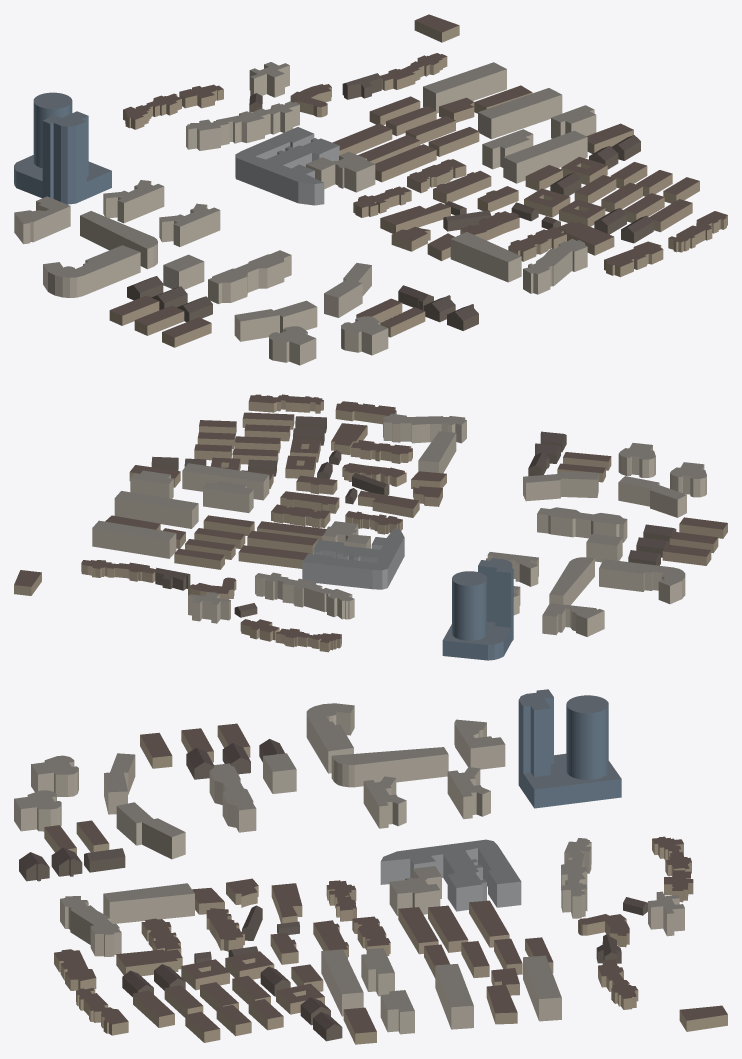
File: tile_3_3.glb
3 views of the same model, one above another, from view 1: azimuth 30°, elevation 25°; view 2: azimuth 150°, elevation 25°; view 3: azimuth 270°, elevation 25° (orthographic). The views are drawn at different scales.
Parts seen in each view (by area): view 1: HP-w1319592295, HP-w1512497750, HP-w1512530034, HP-w293950143, HP-w293416979, HP-w859488719, HP-w859488723, HP-w859488720, HP-w1512495276, HP-w293950144, HP-w1323529653, HP-w1512495278 (+62 smaller); view 2: HP-w1319592295, HP-w1512497750, HP-w1512530034, HP-w293950143, HP-w859488720, HP-w293416979, HP-w859488719, HP-w1512495278, HP-w1323529654, HP-w1323529653, HP-w859488723, HP-w1327459752 (+49 smaller); view 3: HP-w1319592295, HP-w1512497750, HP-w293950144, HP-w1512495276, HP-w293950143, HP-w1512495278, HP-w1323529654, HP-w293416979, HP-w1512530034, HP-w1327459752, HP-w1512497751, HP-w859488720 (+58 smaller).
Boxes of the visible parts, x1,y1,x2,y2 form: HP-w1319592295: (14,92,111,204); HP-w1512497750: (235,127,339,205); HP-w1512530034: (186,101,299,150); HP-w293950143: (43,245,140,297); HP-w293416979: (208,250,291,303); HP-w859488719: (478,88,562,139); HP-w859488723: (503,130,587,183); HP-w859488720: (423,62,506,113); HP-w1512495276: (450,232,521,282); HP-w293950144: (80,211,157,269); HP-w1323529653: (234,300,317,341); HP-w1512495278: (523,238,587,294); HP-w1319592295: (442,558,513,660); HP-w1512497750: (302,528,404,589); HP-w1512530034: (255,572,354,619); HP-w293950143: (599,559,685,604); HP-w859488720: (92,520,176,558); HP-w293416979: (537,507,627,542); HP-w859488719: (114,491,198,528); HP-w1512495278: (383,413,466,443); HP-w1323529654: (523,471,598,501); HP-w1323529653: (618,476,686,517); HP-w859488723: (182,463,269,500); HP-w1327459752: (542,603,604,636); HP-w1319592295: (518,689,621,808); HP-w1512497750: (380,839,521,911); HP-w293950144: (331,747,448,787); HP-w1512495276: (103,883,194,923); HP-w293950143: (306,703,354,773); HP-w1512495278: (60,896,121,956); HP-w1323529654: (116,802,185,859); HP-w293416979: (209,763,256,832); HP-w1512530034: (561,838,591,918); HP-w1327459752: (454,719,505,769); HP-w1512497751: (389,866,441,915); HP-w859488720: (523,955,561,1021).
Bounding box in the file's own units: 552 × 69 × 522.
